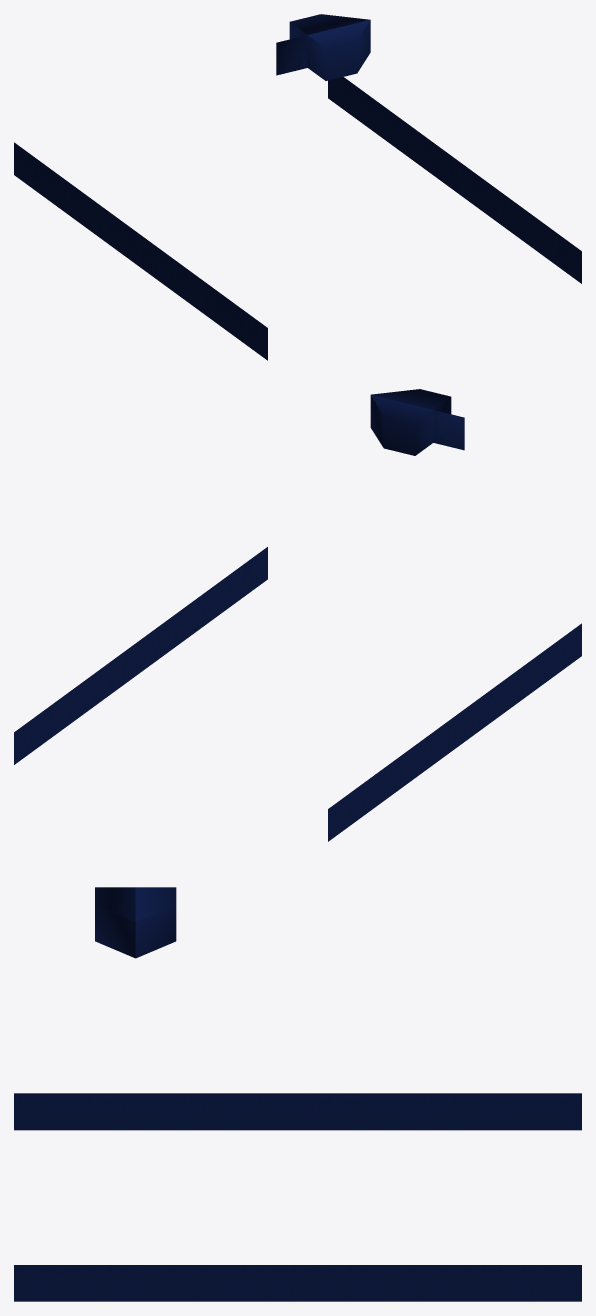
The picture shows the model from 3 angles, top to bottom: view 1: azimuth 30°, elevation 25°; view 2: azimuth 150°, elevation 25°; view 3: azimuth 270°, elevation 25°; orthographic projection. The views are drawn at different scales.
Size of the model in its own units: 2.4 by 1.92 by 3.36.
Materials: 1 (1 with a texture image).
